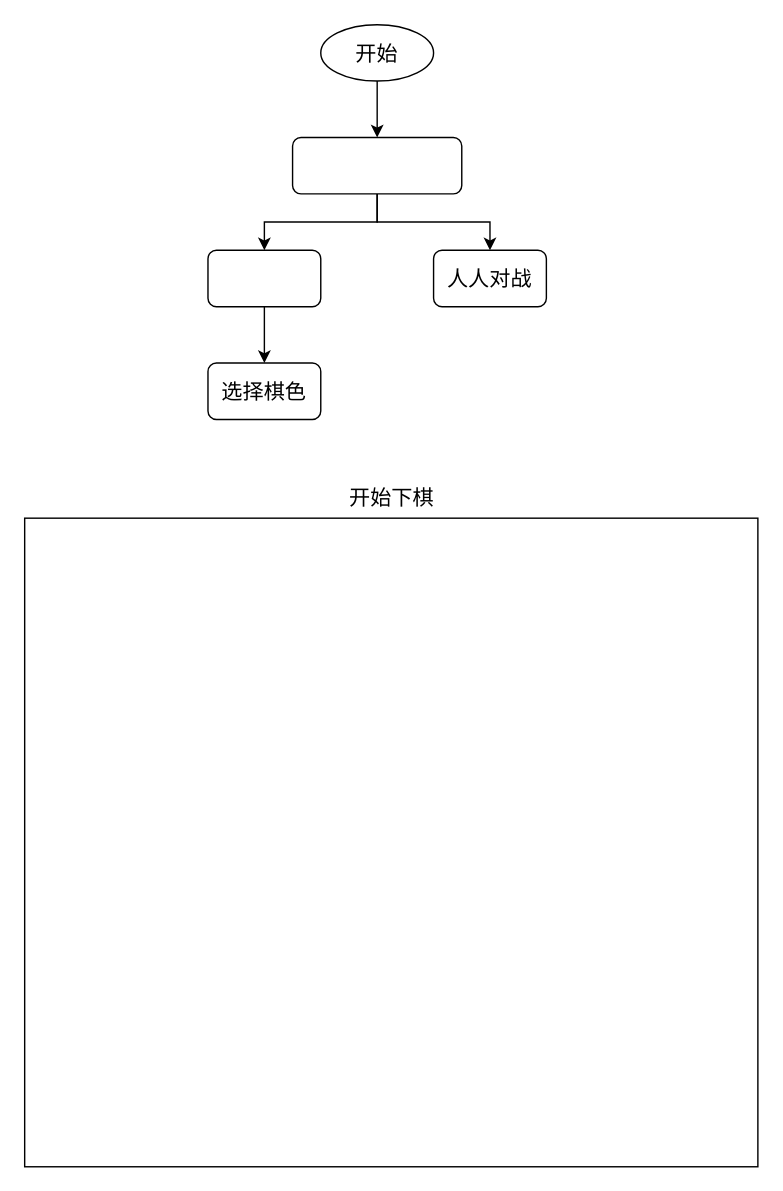
This 783x1191 diagram has some shape labels left out. The centre of each missing label's shape, as x and y in pixels:
人机对战: (x=264, y=278)
选择玩家模式: (x=376, y=165)
